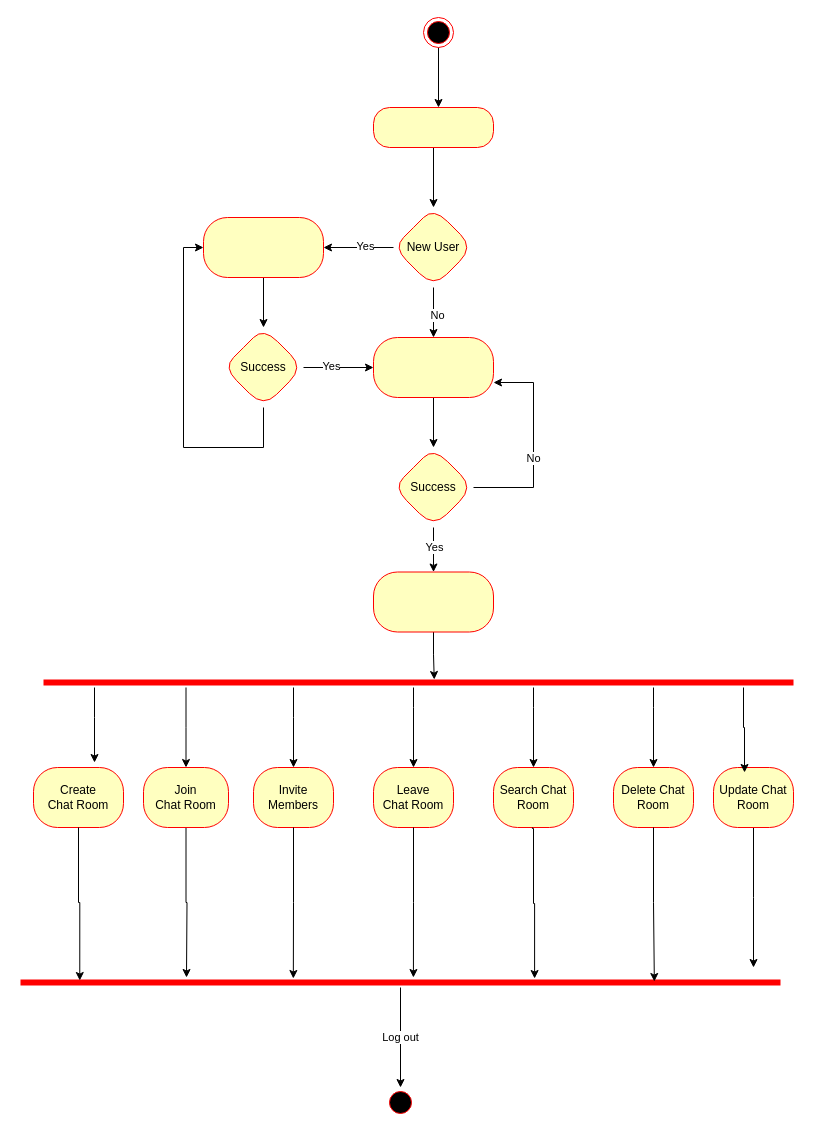
The diagram is 813 pixels wide and 1135 high, and some of its shapes have lost their labels. The shapes that lost their labels are listed below. From the top down, each one's centre as x and y in pixels, then its label:
At point 433,127: "RoomyHomePage".
At point 263,247: "Registration".
At point 433,367: "LogIn".
At point 433,601: "Room Dashboard".
